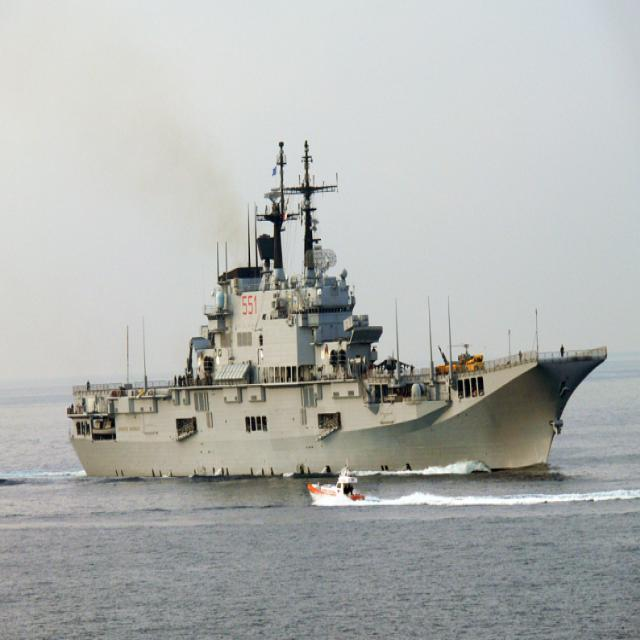Portanaves: (63, 131, 615, 483)
